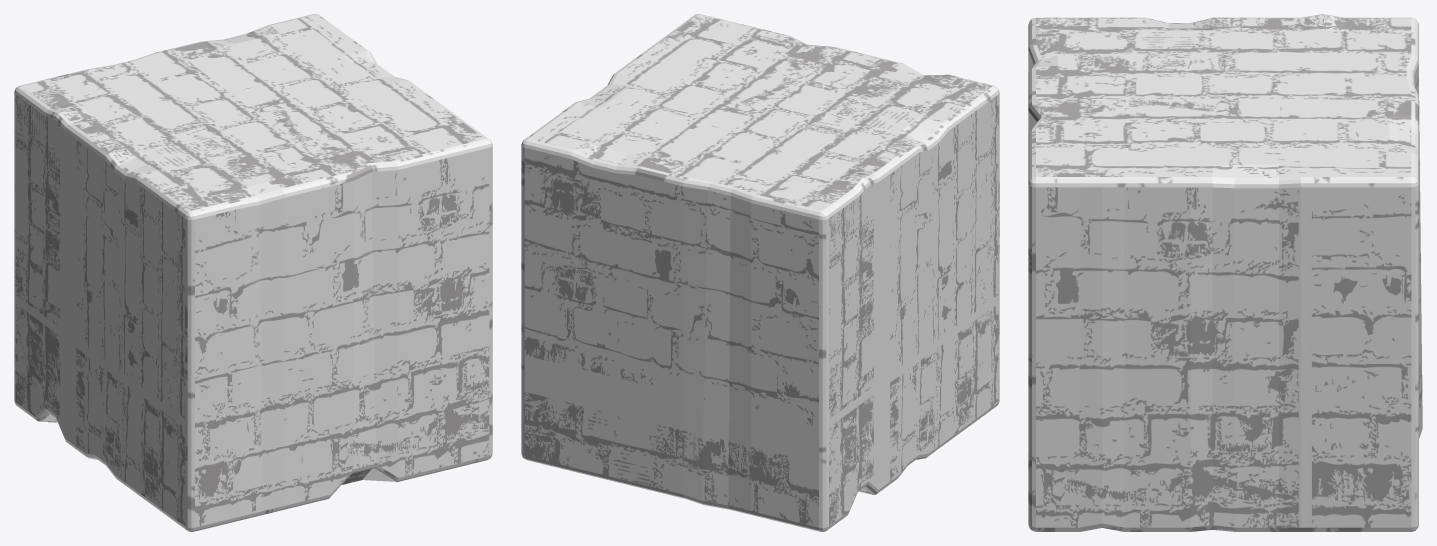
The model's file is CubeForGamedamaged.fbx.
3 views of the same model, side by side, from view 1: azimuth 30°, elevation 25°; view 2: azimuth 150°, elevation 25°; view 3: azimuth 270°, elevation 25° (orthographic). The views are drawn at different scales.
Visible parts, largest first — view 1: Cube; view 2: Cube; view 3: Cube.
Part boxes in pixels (box(x1,y1,x2,y2)): Cube: box(14, 14, 492, 531); Cube: box(521, 14, 999, 531); Cube: box(1028, 14, 1422, 531).
Bounding box in the file's own units: 503 × 505 × 505.
